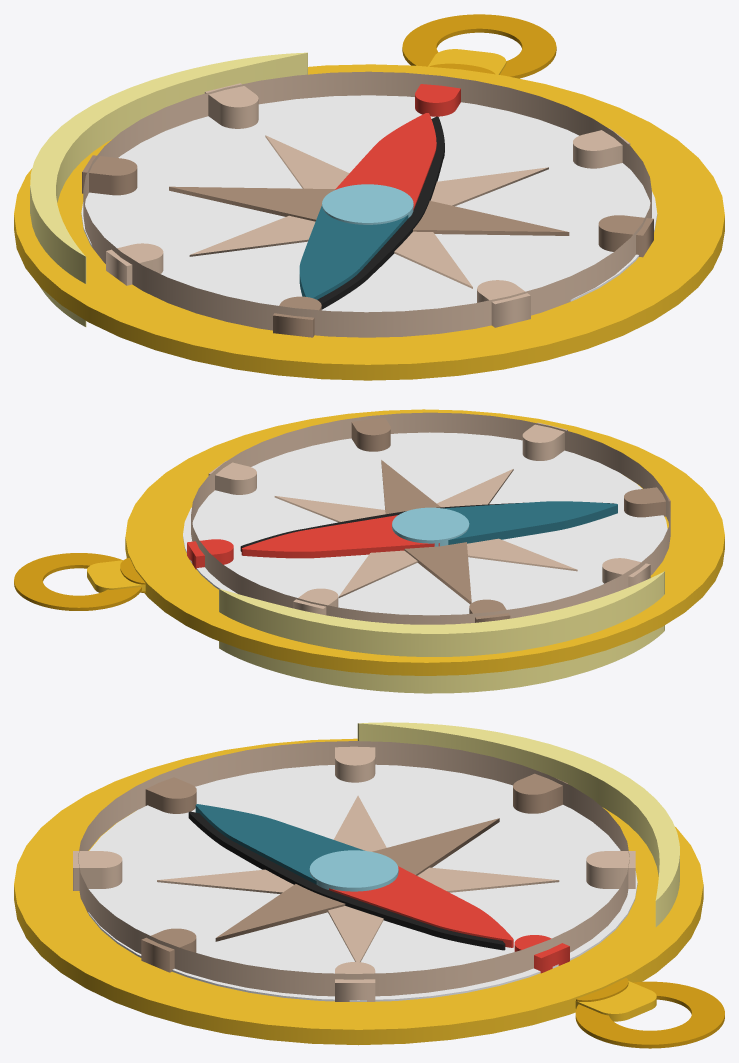
File: emoji_u1f9ed.glb
The picture shows the model from 3 angles, top to bottom: view 1: azimuth 30°, elevation 25°; view 2: azimuth 150°, elevation 25°; view 3: azimuth 270°, elevation 25°; orthographic projection. The views are drawn at different scales.
Visible parts, largest first — view 1: emoji_u1f9ed; view 2: emoji_u1f9ed; view 3: emoji_u1f9ed.
Boxes of the visible parts, bbox=[...] form: emoji_u1f9ed: bbox=[14, 14, 724, 380]; emoji_u1f9ed: bbox=[14, 409, 724, 693]; emoji_u1f9ed: bbox=[14, 722, 724, 1048].
Bounding box in the file's own units: 0.0338 × 0.0036 × 0.0339.
